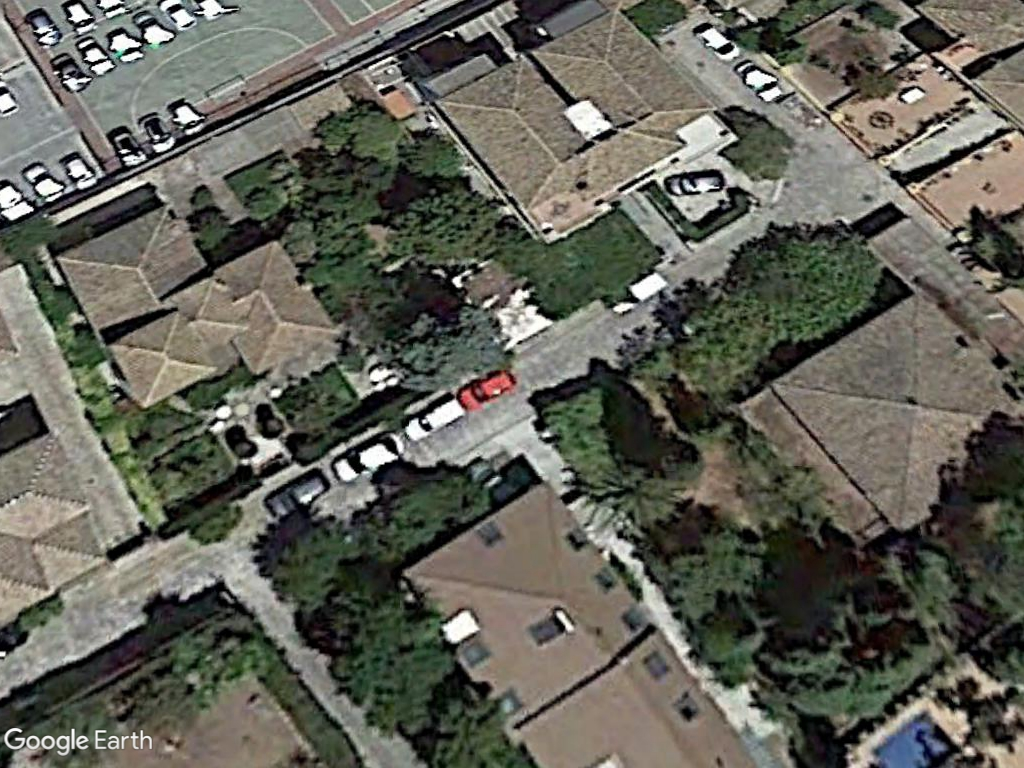car: (331, 430, 409, 485), (263, 469, 335, 519), (396, 400, 474, 446), (453, 368, 525, 412), (739, 57, 791, 111), (688, 20, 743, 64), (18, 160, 69, 204), (73, 34, 115, 83), (134, 109, 179, 154), (57, 150, 103, 194), (662, 168, 729, 198), (104, 128, 149, 171), (164, 98, 212, 138), (128, 8, 173, 50), (102, 22, 144, 65), (47, 51, 87, 92)
